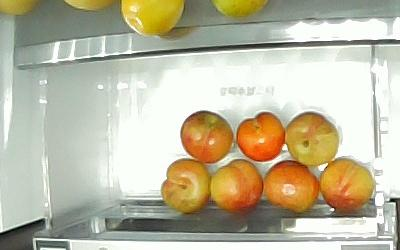prune: (283, 110, 339, 167), (208, 157, 263, 214), (262, 158, 319, 213), (318, 155, 374, 210), (179, 109, 234, 163), (160, 157, 211, 214), (235, 110, 285, 162)
